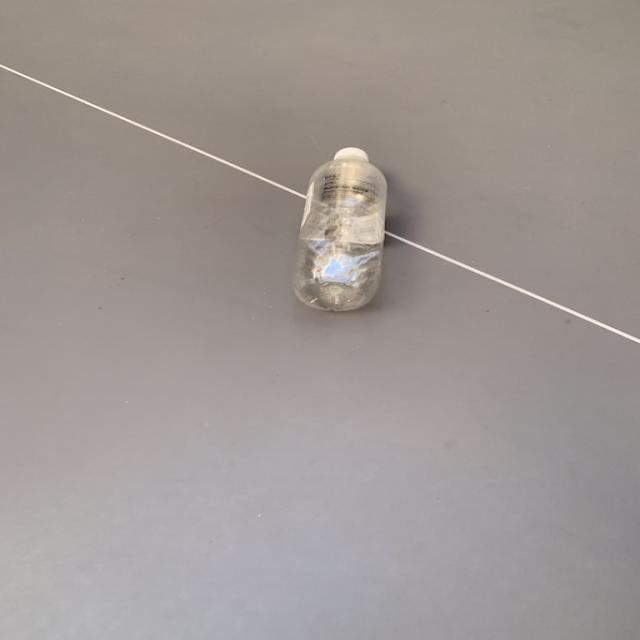Waste: (294, 147, 388, 312)
